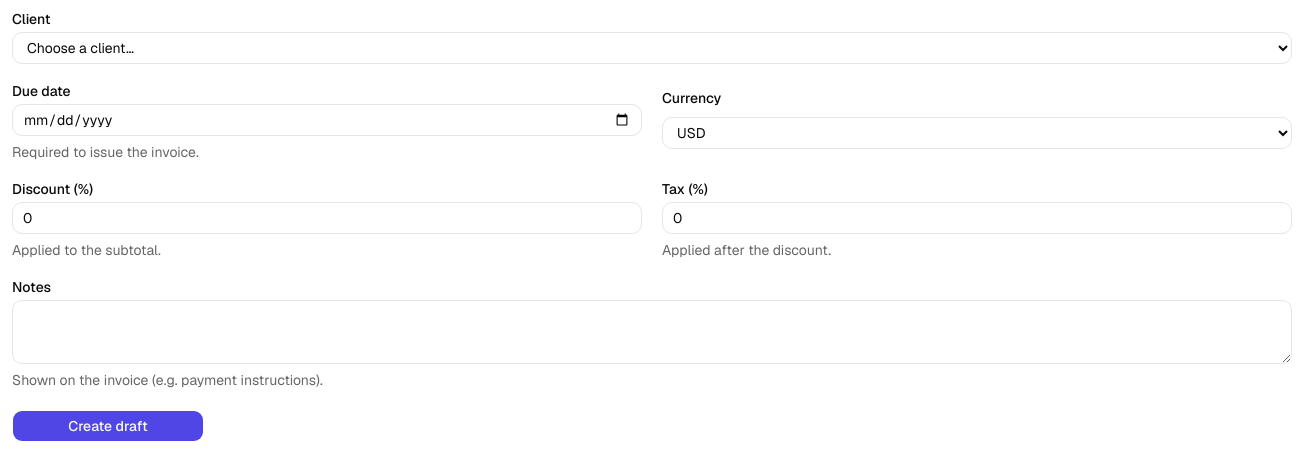
Test case: InvoiceForm › shows server validation errors next to fields
Click the button "Create draft". click: [108, 426]
box: [12,410,204,442]
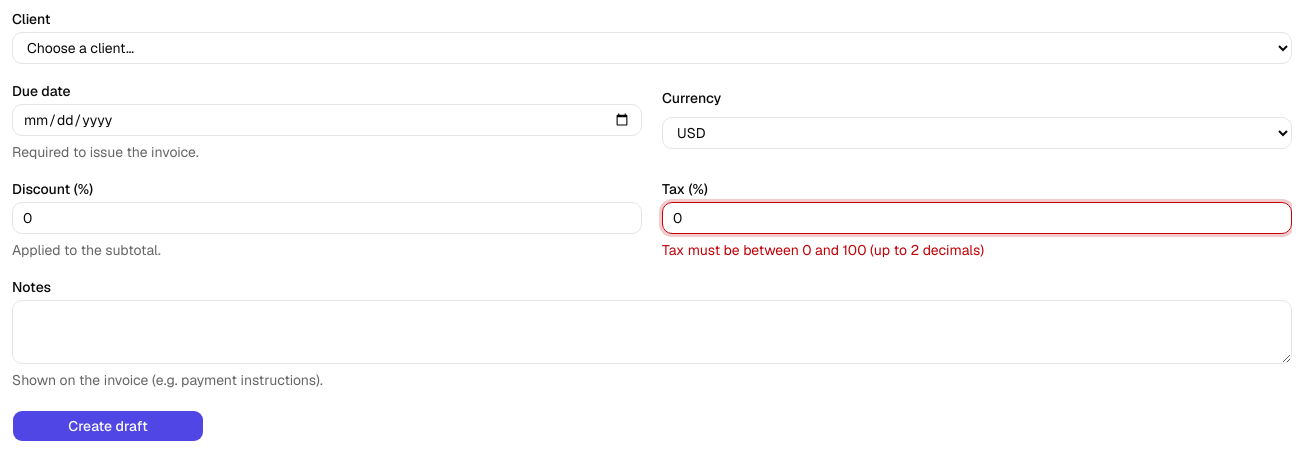
Check: the text "Tax must be between 0 and 100 (up to 2 decimals)" is shown, box [662,241,984,259]
